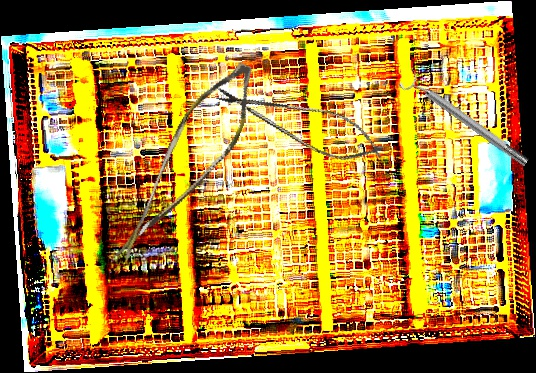Fixation Ring: (398, 66, 533, 174)
Micro Scissor: (114, 45, 265, 284), (208, 74, 391, 173)
